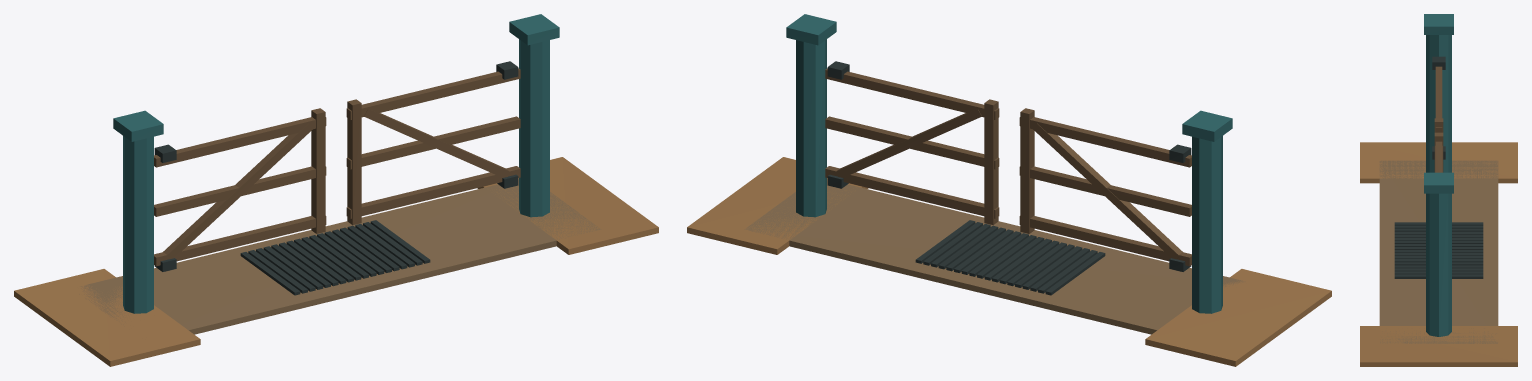
Rendered from Farm-Gate.glb.
3 views of the same model, side by side, from view 1: azimuth 30°, elevation 25°; view 2: azimuth 150°, elevation 25°; view 3: azimuth 270°, elevation 25° (orthographic). The views are drawn at different scales.
Visible parts, largest first — view 1: farm-gate-static-gate-road, farm-gate-static-gate-timber, farm-gate-static-gate-earth, farm-gate-static-gate-teal, farm-gate-static-gate-metal; view 2: farm-gate-static-gate-road, farm-gate-static-gate-timber, farm-gate-static-gate-earth, farm-gate-static-gate-teal, farm-gate-static-gate-metal; view 3: farm-gate-static-gate-road, farm-gate-static-gate-earth, farm-gate-static-gate-teal, farm-gate-static-gate-metal, farm-gate-static-gate-timber.
Boxes of the visible parts, x1,y1,x2,y2 form: farm-gate-static-gate-road: (79, 179, 601, 334); farm-gate-static-gate-timber: (154, 68, 520, 266); farm-gate-static-gate-earth: (14, 157, 658, 366); farm-gate-static-gate-teal: (113, 14, 559, 313); farm-gate-static-gate-metal: (154, 61, 518, 295); farm-gate-static-gate-road: (744, 179, 1245, 334); farm-gate-static-gate-timber: (825, 68, 1191, 266); farm-gate-static-gate-earth: (687, 157, 1331, 366); farm-gate-static-gate-teal: (786, 14, 1232, 313); farm-gate-static-gate-metal: (827, 61, 1191, 295); farm-gate-static-gate-road: (1379, 160, 1498, 343); farm-gate-static-gate-earth: (1360, 142, 1517, 366); farm-gate-static-gate-teal: (1424, 14, 1453, 336); farm-gate-static-gate-metal: (1394, 56, 1483, 278); farm-gate-static-gate-timber: (1434, 66, 1443, 172).
Size of the model in its own units: 7.9 by 2.64 by 2.4.
